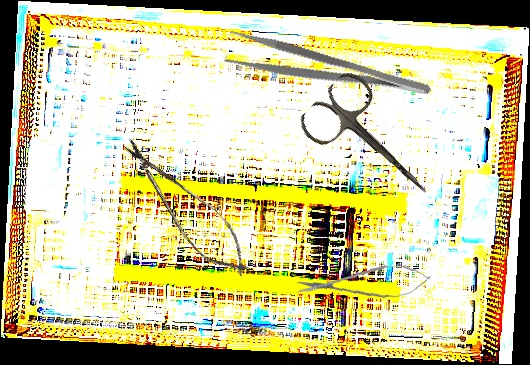Dressing Forceps: (220, 26, 435, 117)
Iris Scissors: (294, 65, 453, 223)
Micro Scissor: (108, 127, 263, 289), (293, 261, 433, 305)
